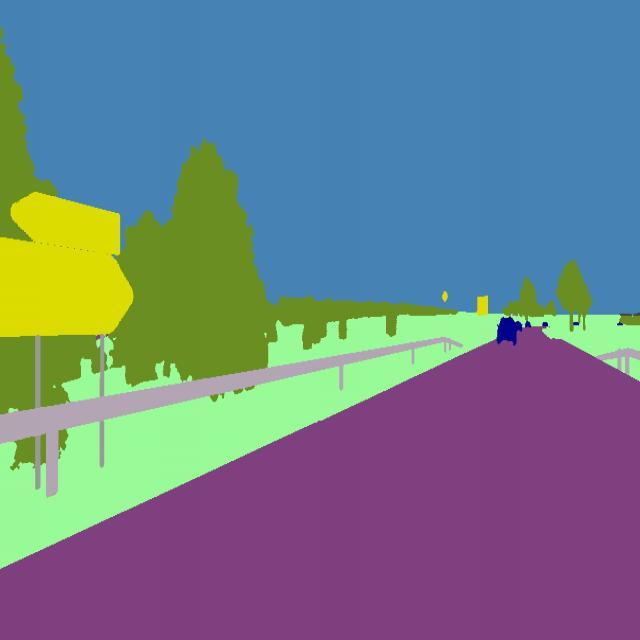safe: (491, 312, 524, 350), (514, 318, 526, 334)
